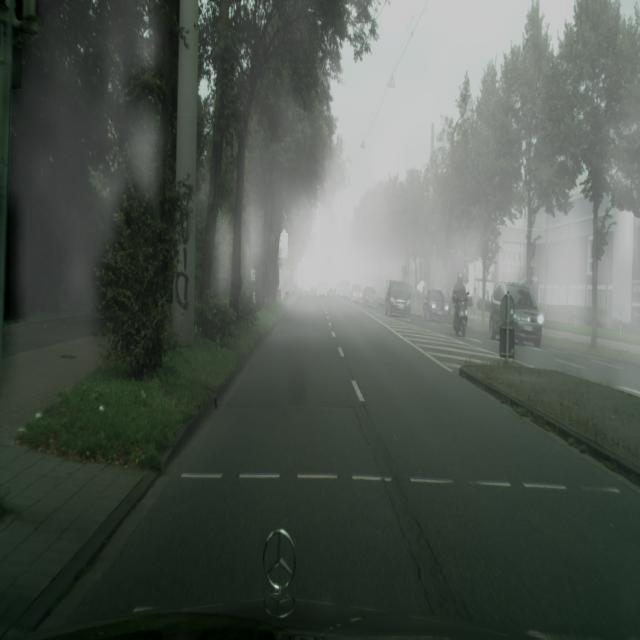bus: (489, 282, 546, 347), (384, 279, 411, 318), (422, 288, 449, 322), (362, 286, 378, 307), (351, 284, 364, 303)
truck: (453, 274, 468, 338)
